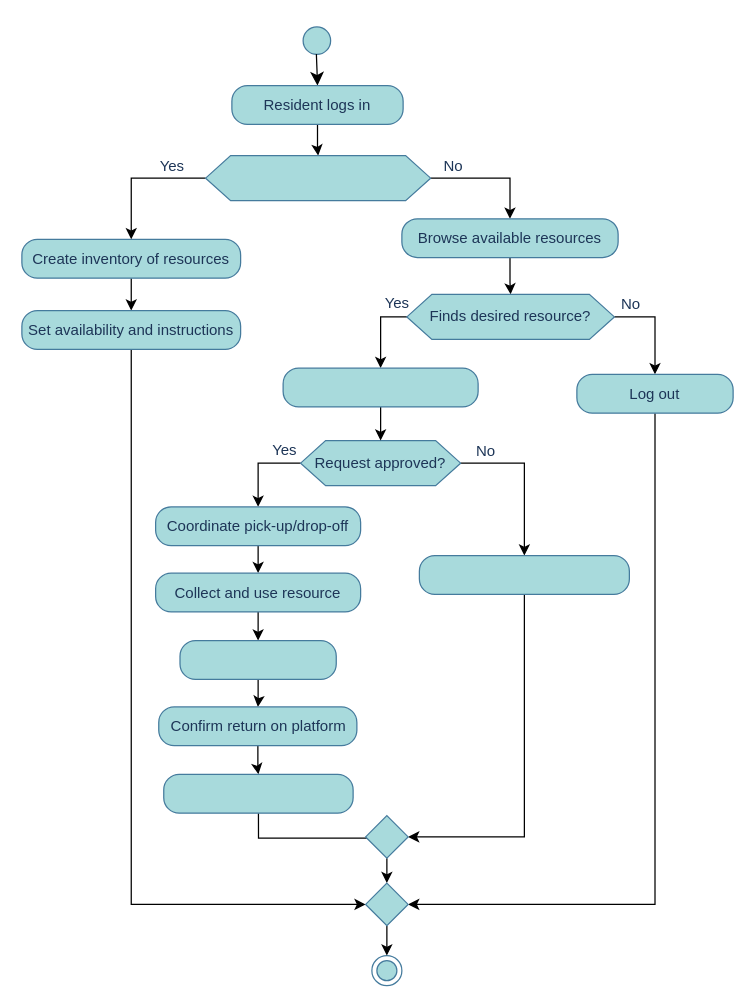
Some shapes in this 755 by 1008 pixel diagram are drawn without their labels. The shapes that lost their labels are listed below. From the top down, each one's centre as x and y in pixels, then its label:
At [317,177]: "Wants to share a resource?".
At [380,387]: "Submit borrowing request".
At [523,574]: "Search for other resources".
At [257,659]: "Return resource".
At [257,793]: "Provide review and rating".
